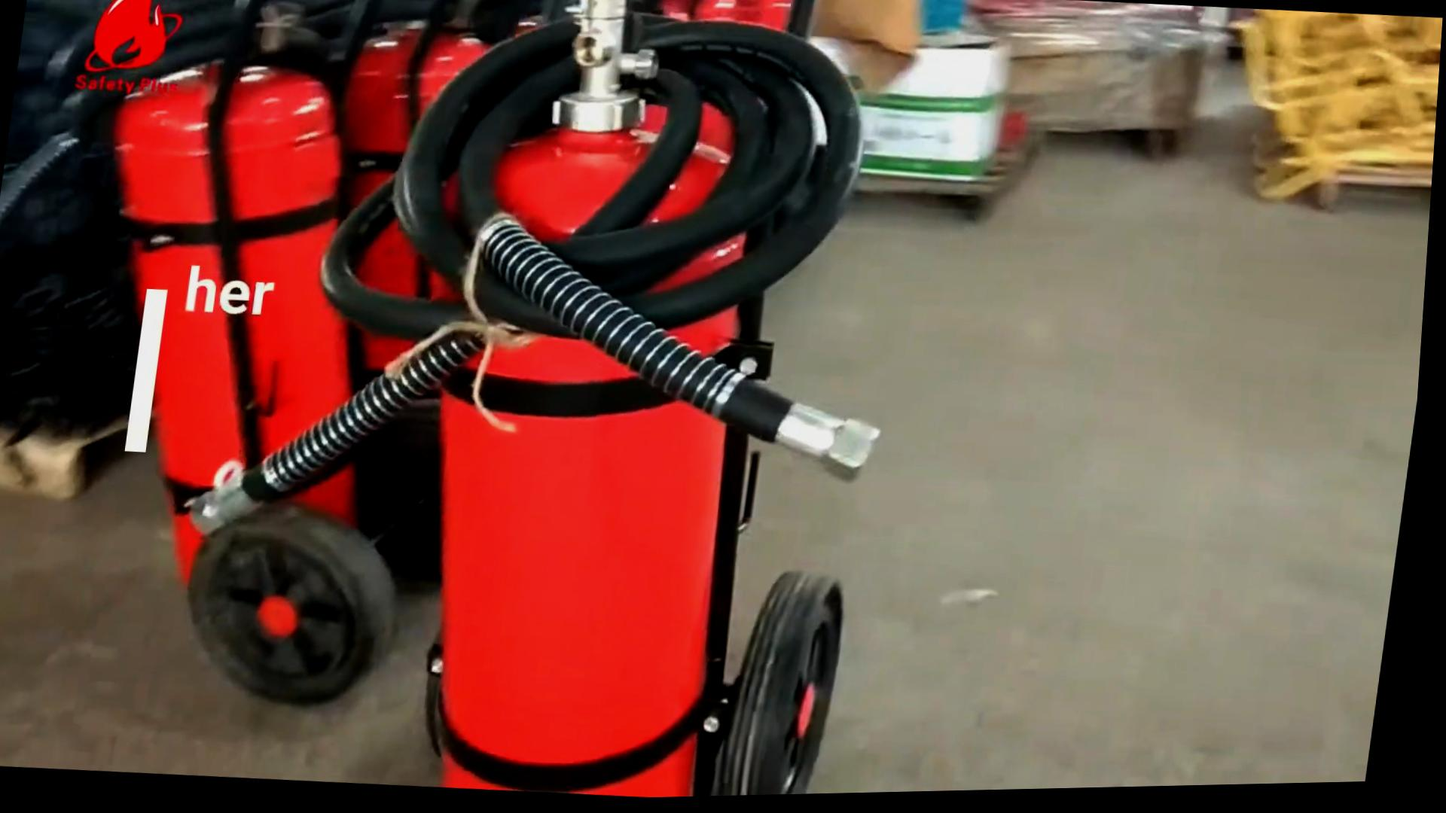FireExtinguisher: (393, 49, 840, 805), (24, 24, 439, 669), (284, 0, 508, 462)
